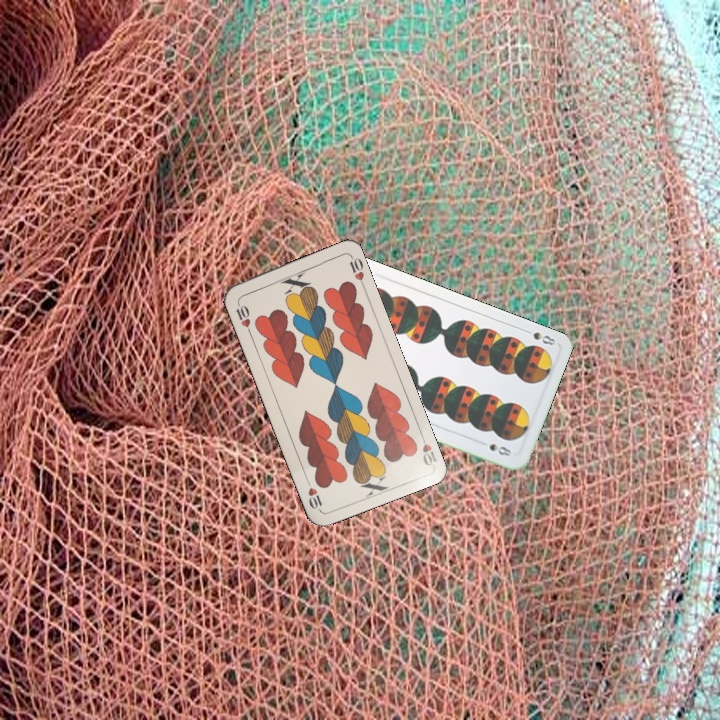H10: (416, 429, 439, 469), (232, 297, 254, 337)
S8: (519, 325, 558, 348)
